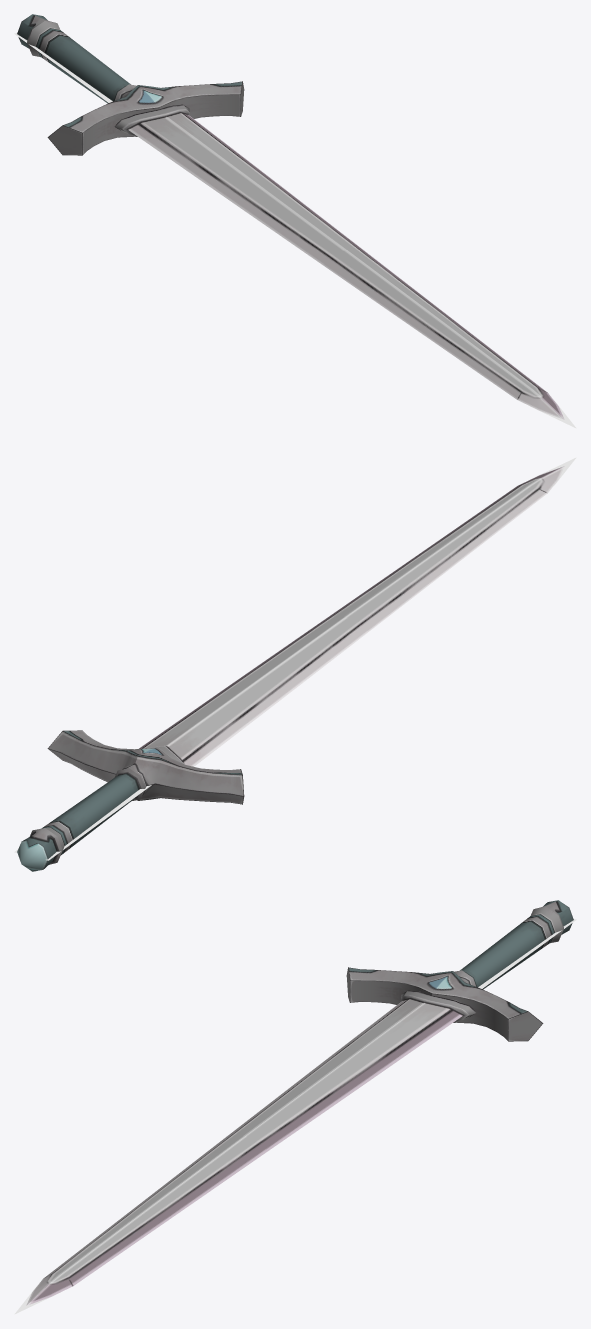
The model's file is Equip_Sword_Blunt.fbx.
The picture shows the model from 3 angles, top to bottom: view 1: azimuth 30°, elevation 25°; view 2: azimuth 150°, elevation 25°; view 3: azimuth 330°, elevation 25°; orthographic projection.
Parts seen in each view (by area): view 1: Equip_Sword_Blunt_Model, Equip_Sword_Blunt_Effect; view 2: Equip_Sword_Blunt_Model, Equip_Sword_Blunt_Effect; view 3: Equip_Sword_Blunt_Model, Equip_Sword_Blunt_Effect.
Boxes of the visible parts, x1,y1,x2,y2 form: Equip_Sword_Blunt_Model: (17, 14, 564, 419); Equip_Sword_Blunt_Effect: (14, 33, 576, 428); Equip_Sword_Blunt_Model: (17, 466, 564, 871); Equip_Sword_Blunt_Effect: (14, 457, 576, 860); Equip_Sword_Blunt_Model: (26, 900, 573, 1305); Equip_Sword_Blunt_Effect: (14, 919, 576, 1314).
Size of the model in its own units: 0.2008 by 0.0441 by 0.9825.
2 materials, 1 textured.
